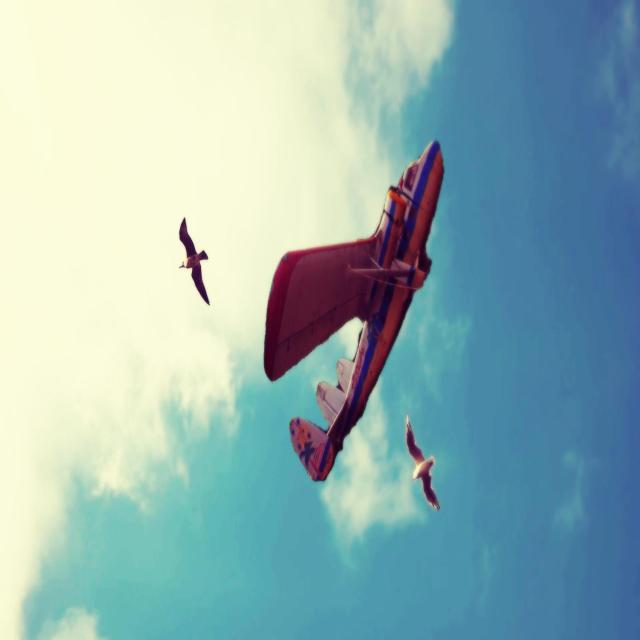airplane: (263, 138, 444, 482)
